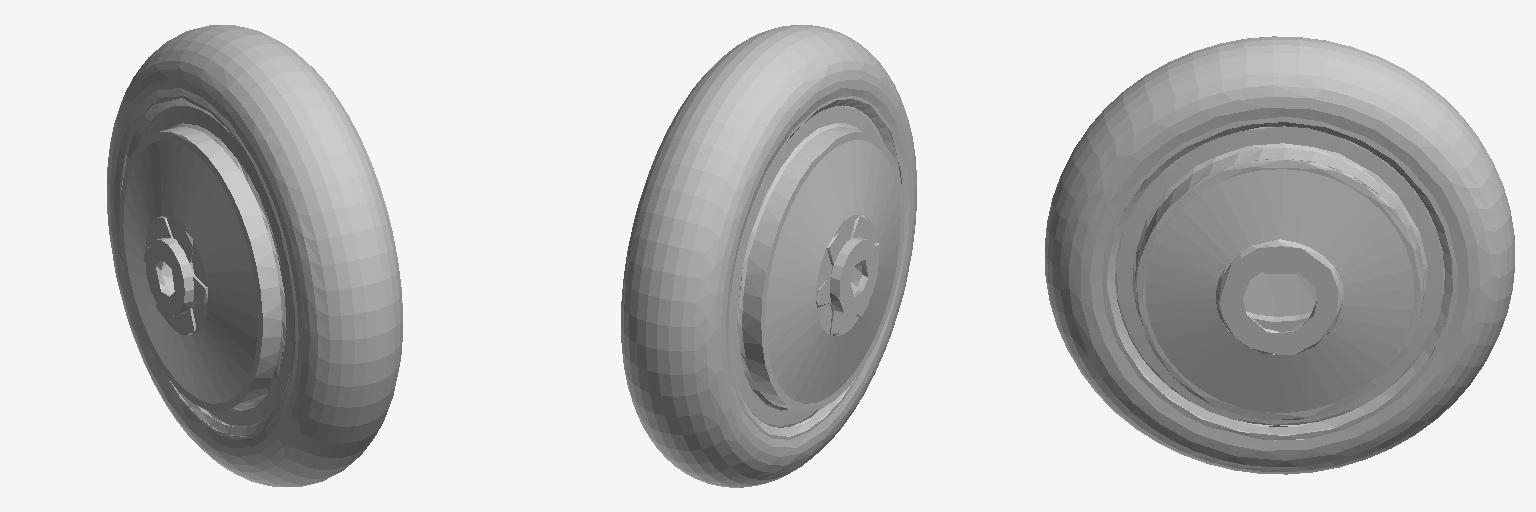
Rendered from wheel.obj.
3 views of the same model, side by side, from view 1: azimuth 30°, elevation 25°; view 2: azimuth 150°, elevation 25°; view 3: azimuth 270°, elevation 25° (orthographic).
Parts seen in each view (by area): view 1: wheel; view 2: wheel; view 3: wheel.
Boxes of the visible parts, x1=… form: wheel: x1=107, y1=25, x2=402, y2=486; wheel: x1=621, y1=25, x2=916, y2=487; wheel: x1=1045, y1=36, x2=1514, y2=474.
Bounding box in the file's own units: 0.0877 × 0.1965 × 0.1966.